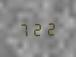seven: (18, 20, 30, 37)
two: (45, 19, 57, 36), (32, 20, 44, 36)
